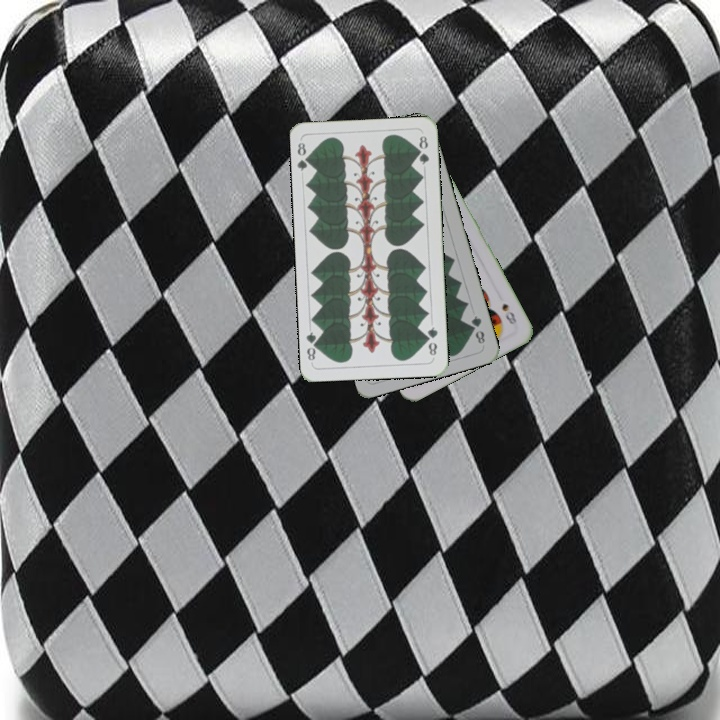G8: (467, 311, 488, 347), (293, 139, 314, 173), (423, 323, 440, 358)
S8: (498, 299, 519, 329)
